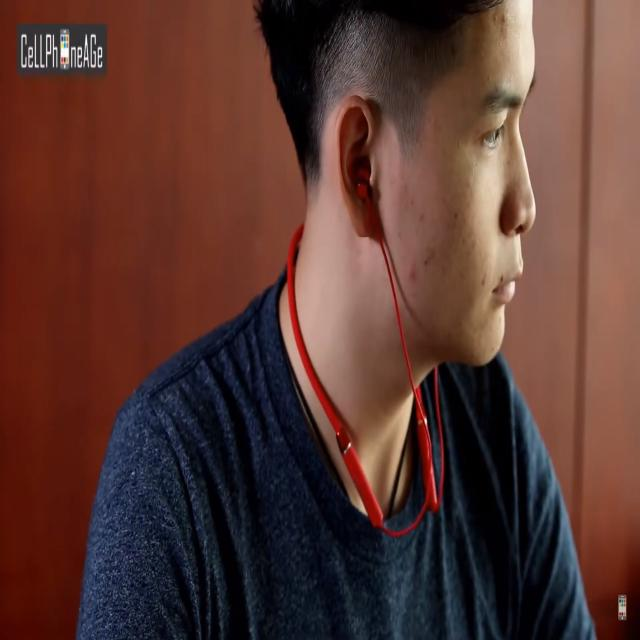Neckband: (286, 150, 445, 540)
